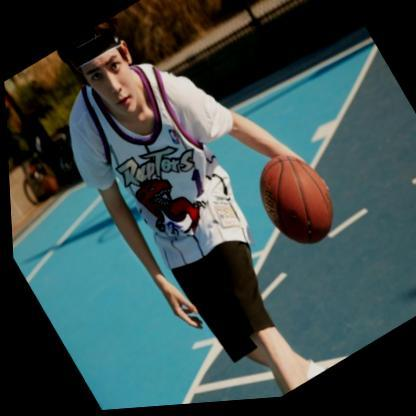basketball: (242, 144, 347, 263)
